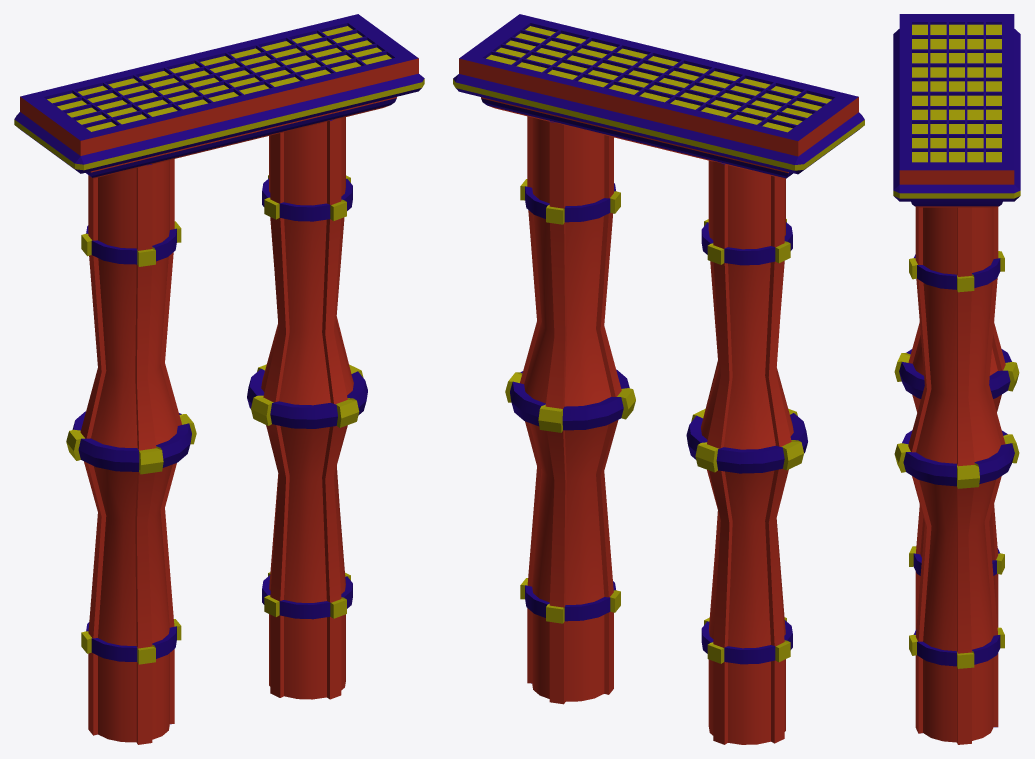
The model's file is Crush Trap.fbx.
3 views of the same model, side by side, from view 1: azimuth 30°, elevation 25°; view 2: azimuth 150°, elevation 25°; view 3: azimuth 270°, elevation 25° (orthographic). The views are drawn at different scales.
Visible parts, largest first — view 1: Crusher; view 2: Crusher; view 3: Crusher.
Boxes of the visible parts, left/top/right/bottom form: Crusher: left=14, top=14, right=424, bottom=744; Crusher: left=453, top=14, right=864, bottom=744; Crusher: left=893, top=14, right=1020, bottom=744.
Size of the model in its own units: 600 by 1029 by 200.
